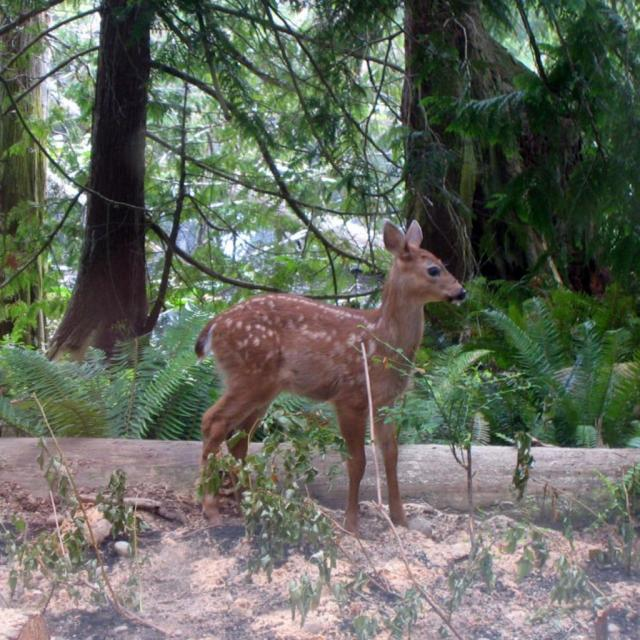Deer: (196, 222, 464, 536)
